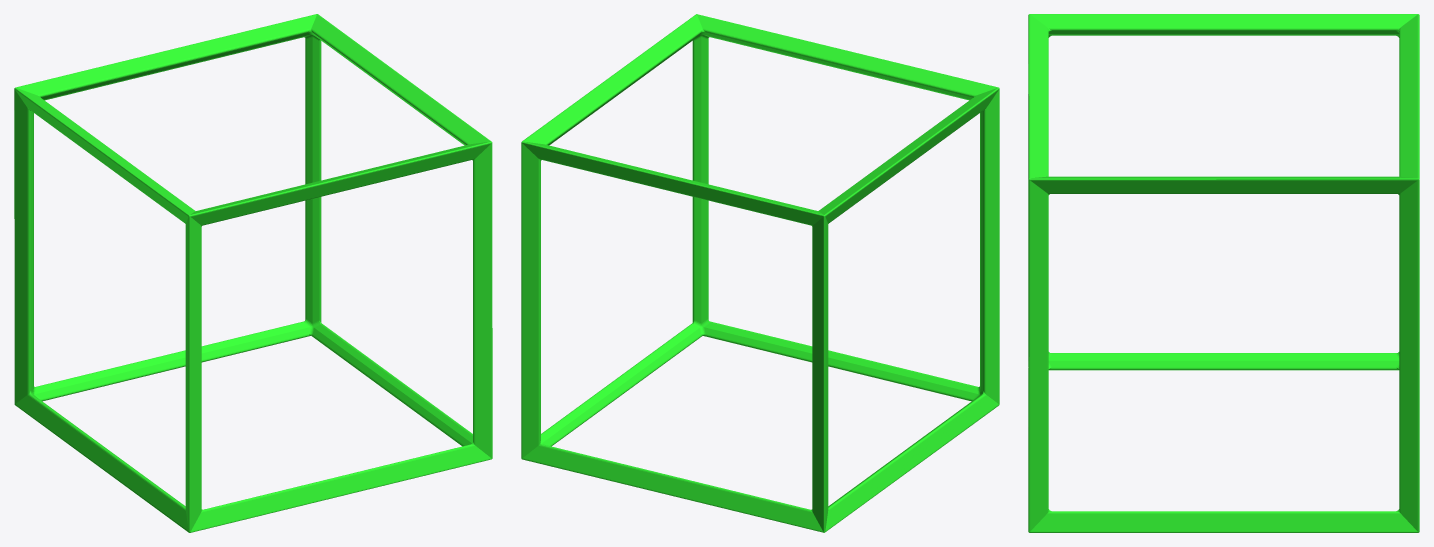
The model's file is Wirehexahedron.obj.
The picture shows the model from 3 angles, left to right: view 1: azimuth 30°, elevation 25°; view 2: azimuth 150°, elevation 25°; view 3: azimuth 270°, elevation 25°; orthographic projection. The views are drawn at different scales.
Visible parts, largest first — view 1: Wirehexahedron; view 2: Wirehexahedron; view 3: Wirehexahedron.
Boxes of the visible parts, bbox=[...] form: Wirehexahedron: bbox=[14, 14, 492, 532]; Wirehexahedron: bbox=[521, 14, 999, 532]; Wirehexahedron: bbox=[1028, 14, 1419, 532].
Size of the model in its own units: 1.04 by 1.04 by 1.04.
